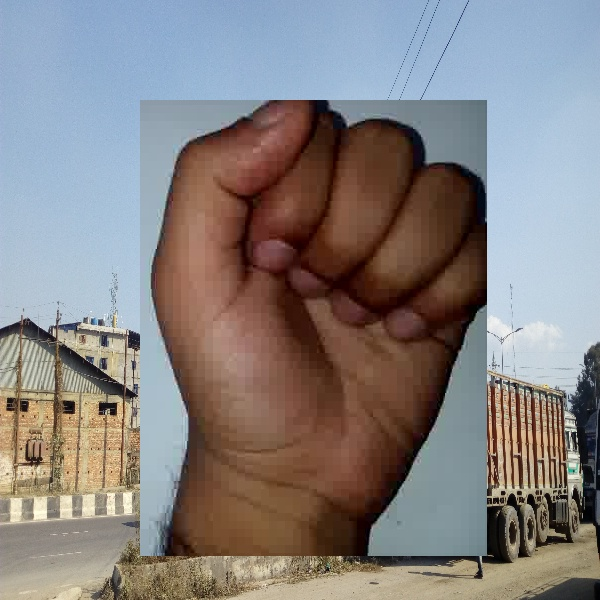A: (140, 100, 487, 556)
